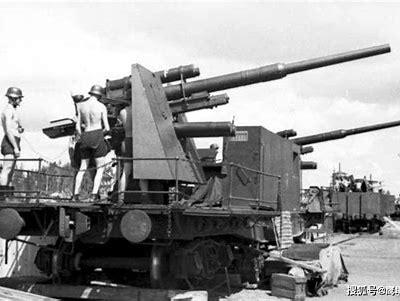MIL_SPG: (0, 45, 400, 287)
